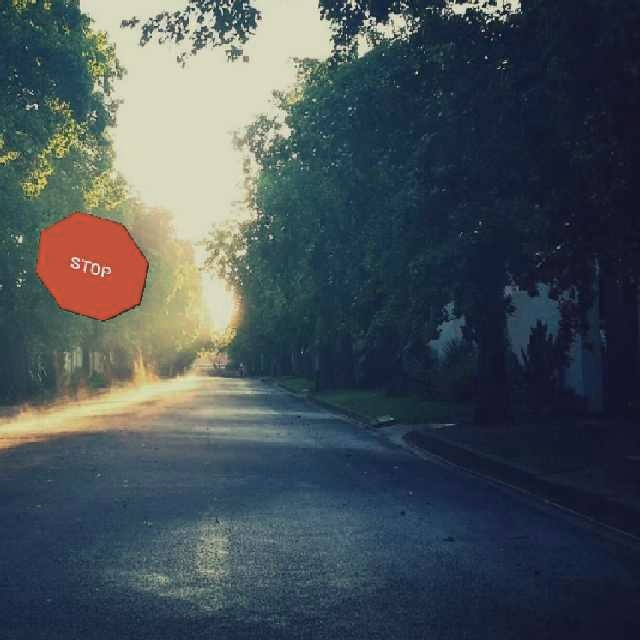STOP: (33, 209, 148, 321)
